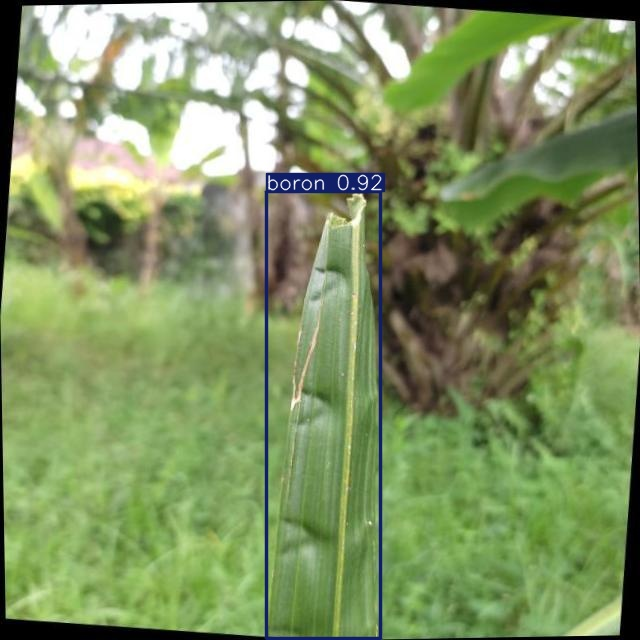nitrogen: (267, 192, 381, 639)
